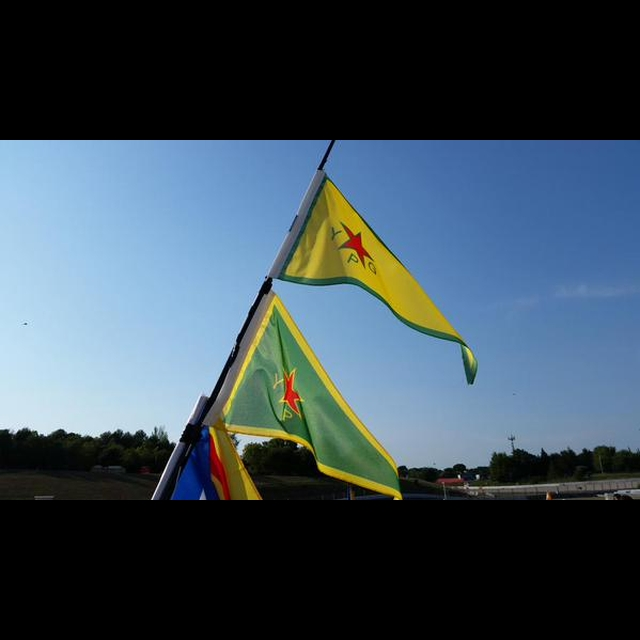YPG: (321, 220, 378, 276)
YPJ: (264, 363, 311, 425)
